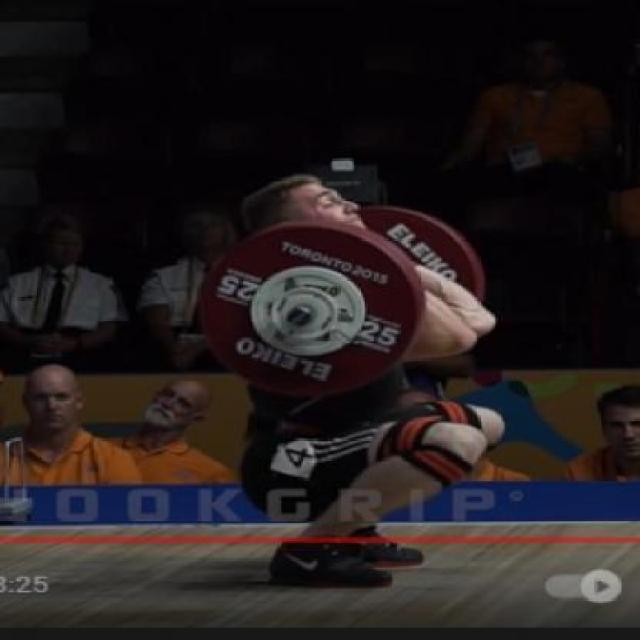barbell: (196, 216, 431, 401)
